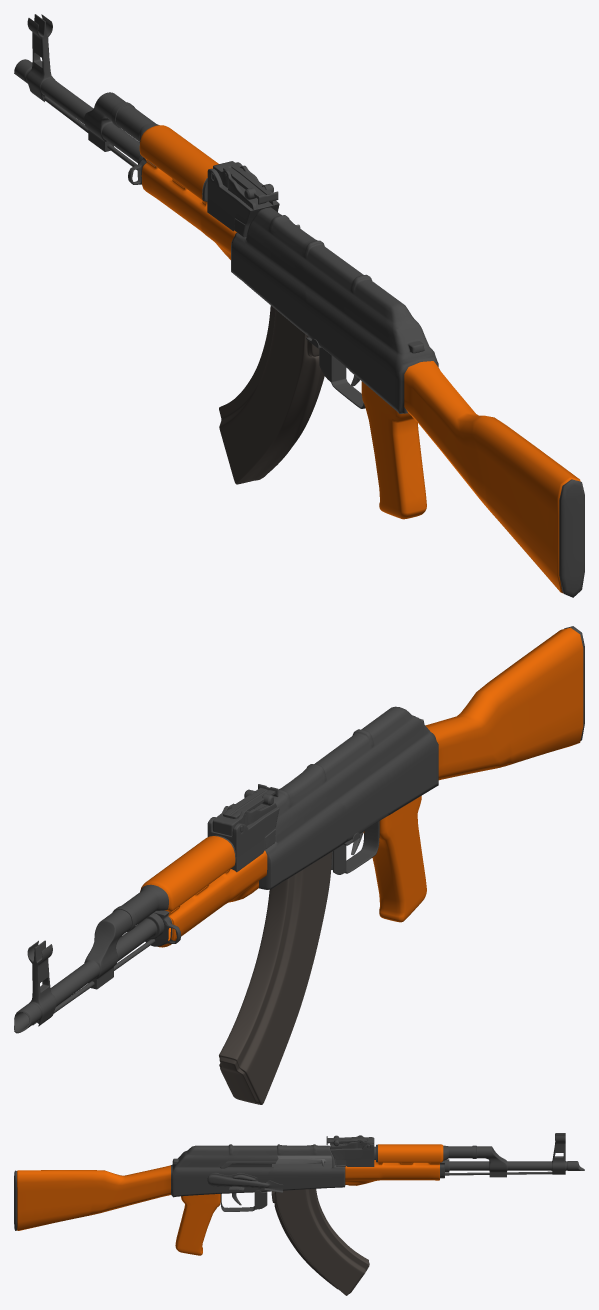
Rendered from Full_GUN_AKA.fbx.
The picture shows the model from 3 angles, top to bottom: view 1: azimuth 30°, elevation 25°; view 2: azimuth 150°, elevation 25°; view 3: azimuth 270°, elevation 25°; orthographic projection. The views are drawn at different scales.
Parts seen in each view (by area): view 1: Body, Mag; view 2: Body, Mag; view 3: Body, Mag, Shell.
Boxes of the visible parts, x1,y1,x2,y2 form: Body: [14, 14, 584, 597]; Mag: [219, 305, 324, 484]; Body: [14, 626, 584, 1033]; Mag: [219, 852, 332, 1104]; Body: [14, 1133, 584, 1255]; Mag: [271, 1189, 369, 1295]; Shell: [272, 1155, 331, 1168].
Bounding box in the file's own units: 5.01 × 27.89 × 90.69.
